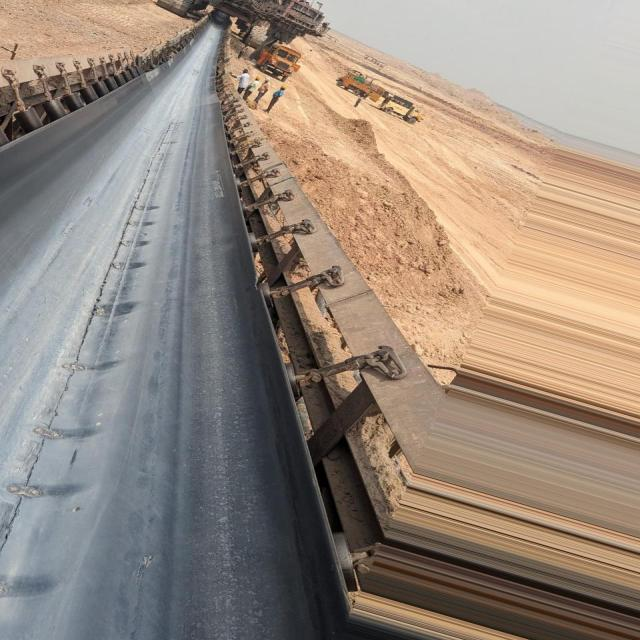Human: (235, 67, 284, 111)
Roller: (0, 64, 152, 145)
patch work: (0, 182, 158, 633)
